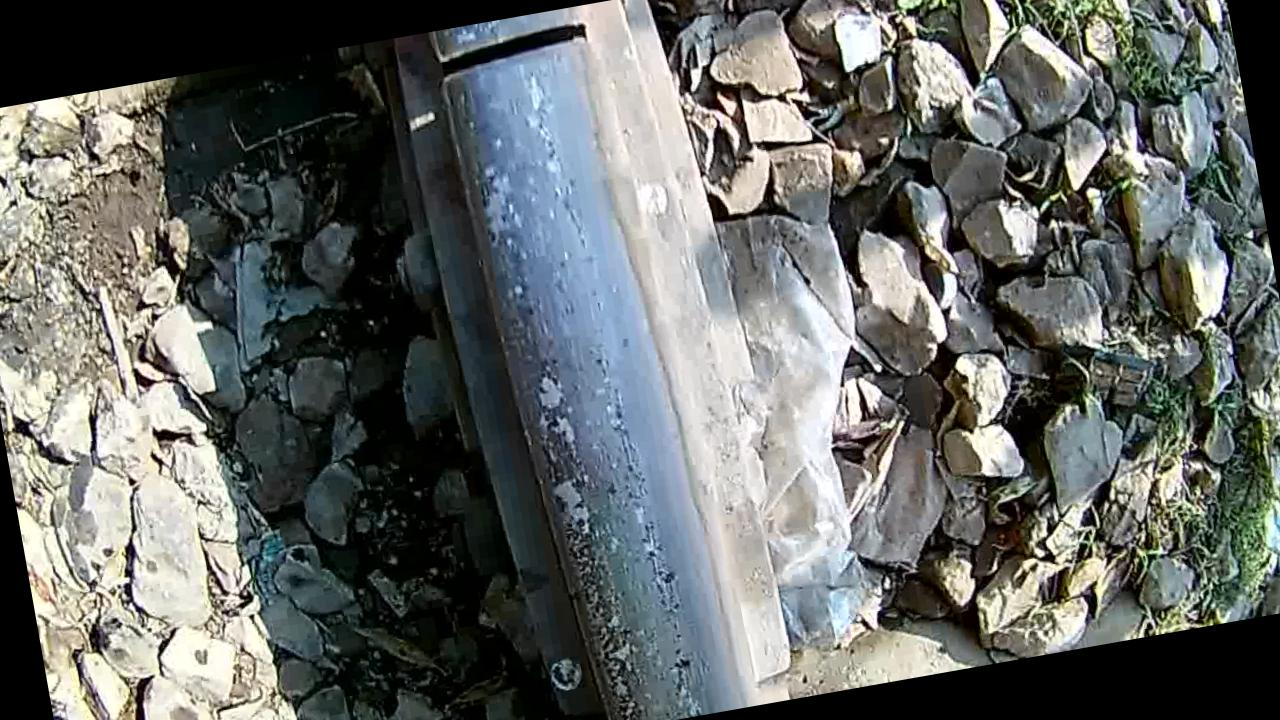clip_missing: (444, 71, 728, 720)
